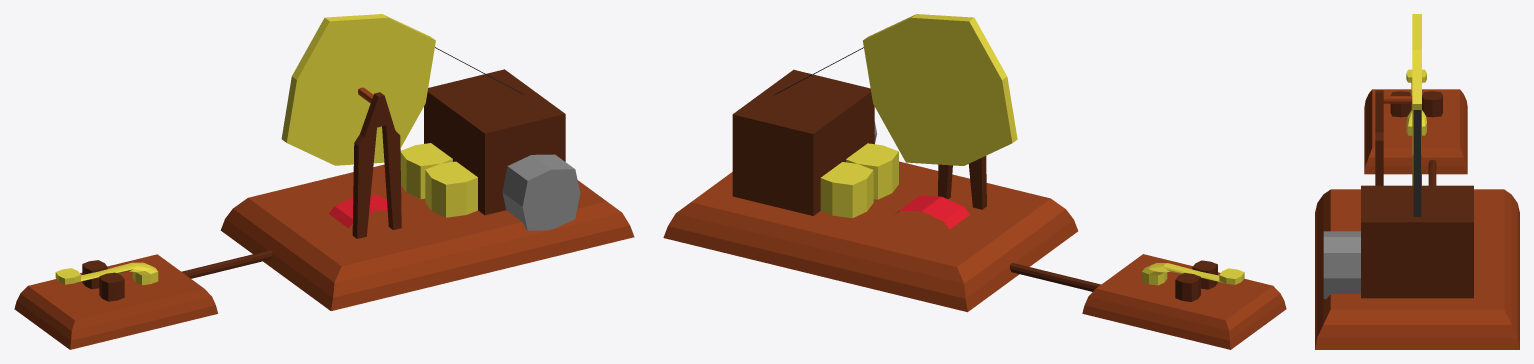
Rendered from Obj5-Telegrafo.glb.
3 views of the same model, side by side, from view 1: azimuth 30°, elevation 25°; view 2: azimuth 150°, elevation 25°; view 3: azimuth 270°, elevation 25° (orthographic). The views are drawn at different scales.
Parts seen in each view (by area): view 1: Cube.982, Cube.978, Cube.981, Cube.975, Cube.979, Cube.977, Cube.980, Cube.974, Cube.971, Cube.973, Plane.023; view 2: Cube.982, Cube.978, Cube.981, Cube.975, Cube.980, Cube.977, Plane.023, Cube.974, Cube.971, Cube.973; view 3: Cube.982, Cube.981, Cube.975, Cube.979, Cube.978, Plane.024, Cube.974, Cube.977, Cube.973, Cube.976, Cube.971.
Boxes of the visible parts, box(x1,y1,x2,y2) form: Cube.982: box(220, 164, 634, 310); Cube.978: box(281, 14, 435, 165); Cube.981: box(424, 69, 565, 215); Cube.975: box(14, 254, 217, 349); Cube.979: box(502, 154, 580, 230); Cube.977: box(352, 92, 401, 238); Cube.980: box(400, 143, 477, 217); Cube.974: box(82, 260, 124, 301); Cube.971: box(181, 250, 272, 278); Cube.973: box(76, 262, 158, 285); Plane.023: box(329, 195, 403, 228); Cube.982: box(663, 161, 1077, 312); Cube.978: box(863, 14, 1017, 165); Cube.981: box(732, 69, 874, 215); Cube.975: box(1082, 254, 1286, 349); Cube.980: box(820, 143, 898, 218); Cube.977: box(938, 156, 986, 209); Plane.023: box(896, 196, 969, 228); Cube.974: box(1175, 260, 1217, 301); Cube.971: box(1009, 263, 1100, 291); Cube.973: box(1142, 263, 1224, 285); Cube.982: box(1315, 189, 1519, 349); Cube.981: box(1361, 185, 1473, 298); Cube.975: box(1364, 89, 1467, 174); Cube.979: box(1323, 231, 1360, 298); Cube.978: box(1412, 14, 1421, 185); Plane.024: box(1413, 110, 1421, 216); Cube.974: box(1390, 91, 1442, 117); Cube.977: box(1375, 90, 1383, 185); Cube.973: box(1406, 83, 1426, 135); Cube.976: box(1383, 96, 1412, 103); Cube.971: box(1428, 160, 1436, 185).
Size of the model in its own units: 0.7327 by 0.3124 by 0.2605.
